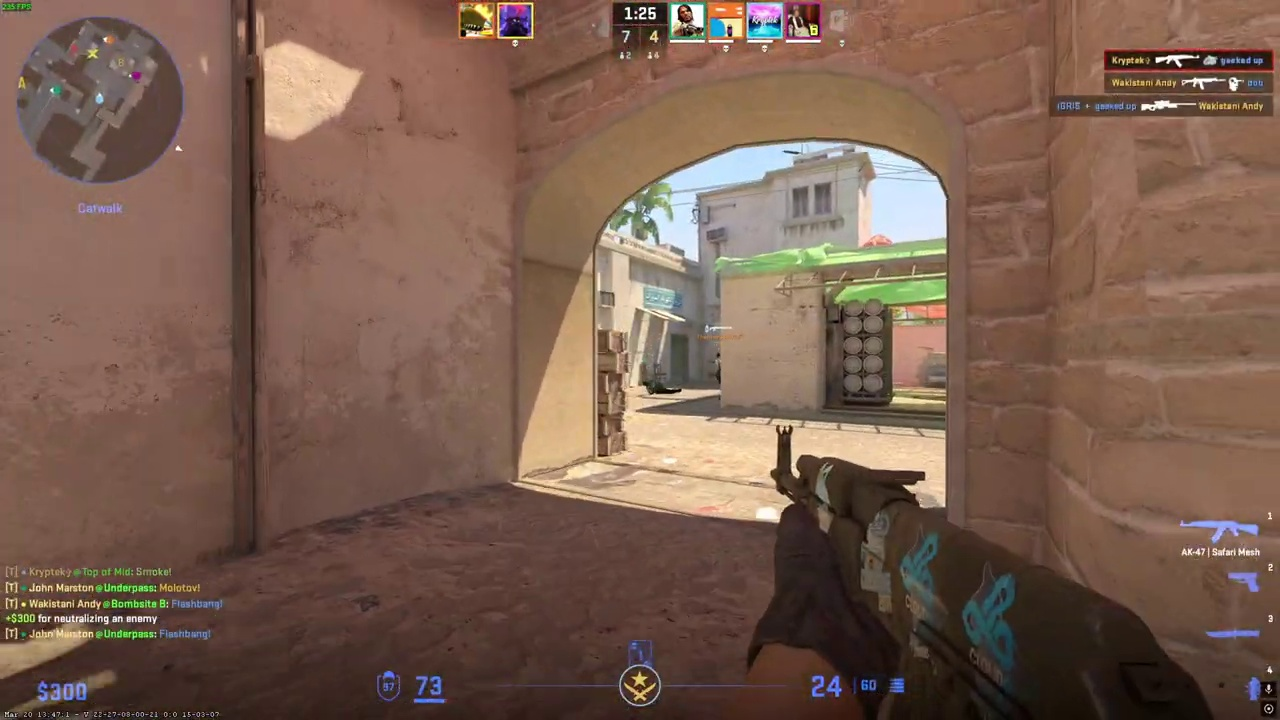Terrorist: (713, 352, 723, 384)
